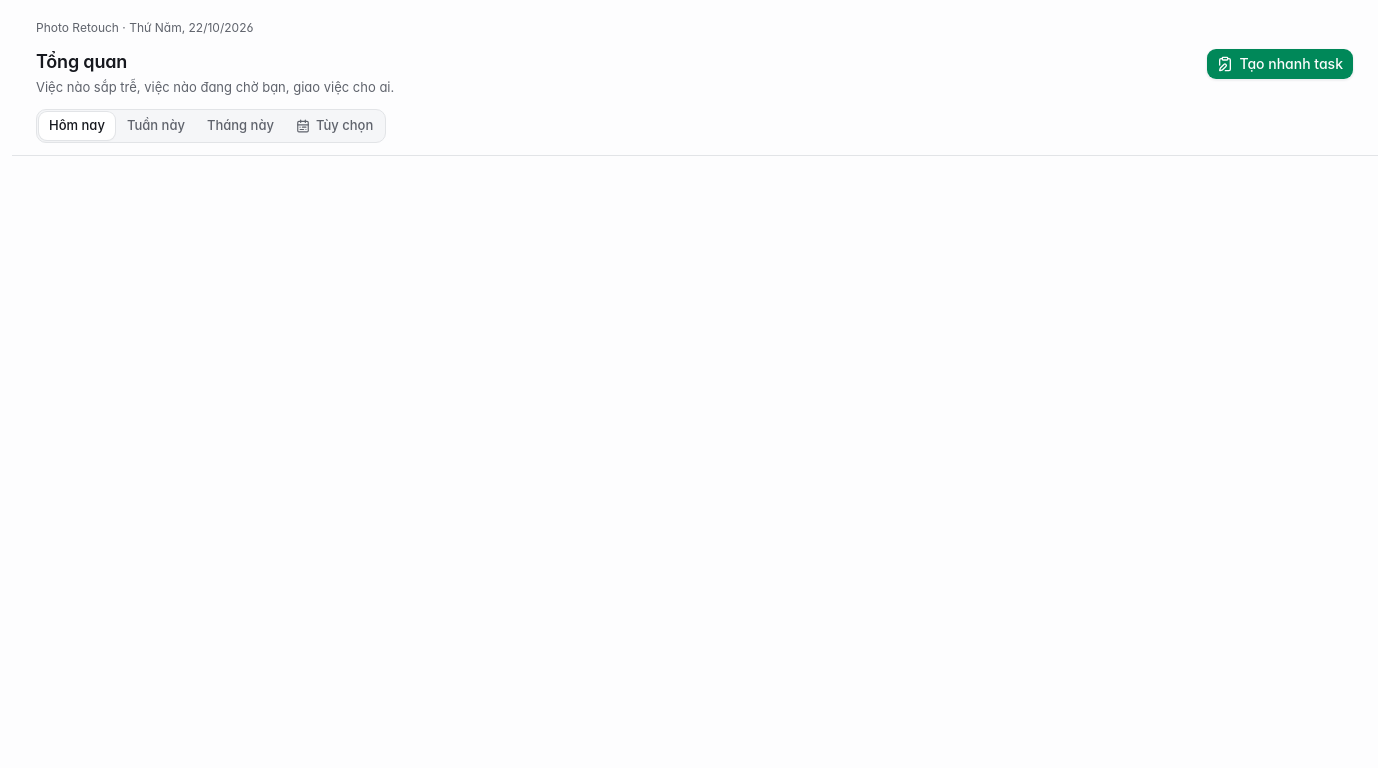
Test case: /production — Tổng quan V2 (PD-080) › the time control goes to the URL and the API (Tuần này Mon–Sun)
expect the heading "Tổng quan" is shown: met, box [36, 51, 127, 72]
Click the button "Tuần này": (156, 126) [117, 112, 195, 140]
(page scrolled)
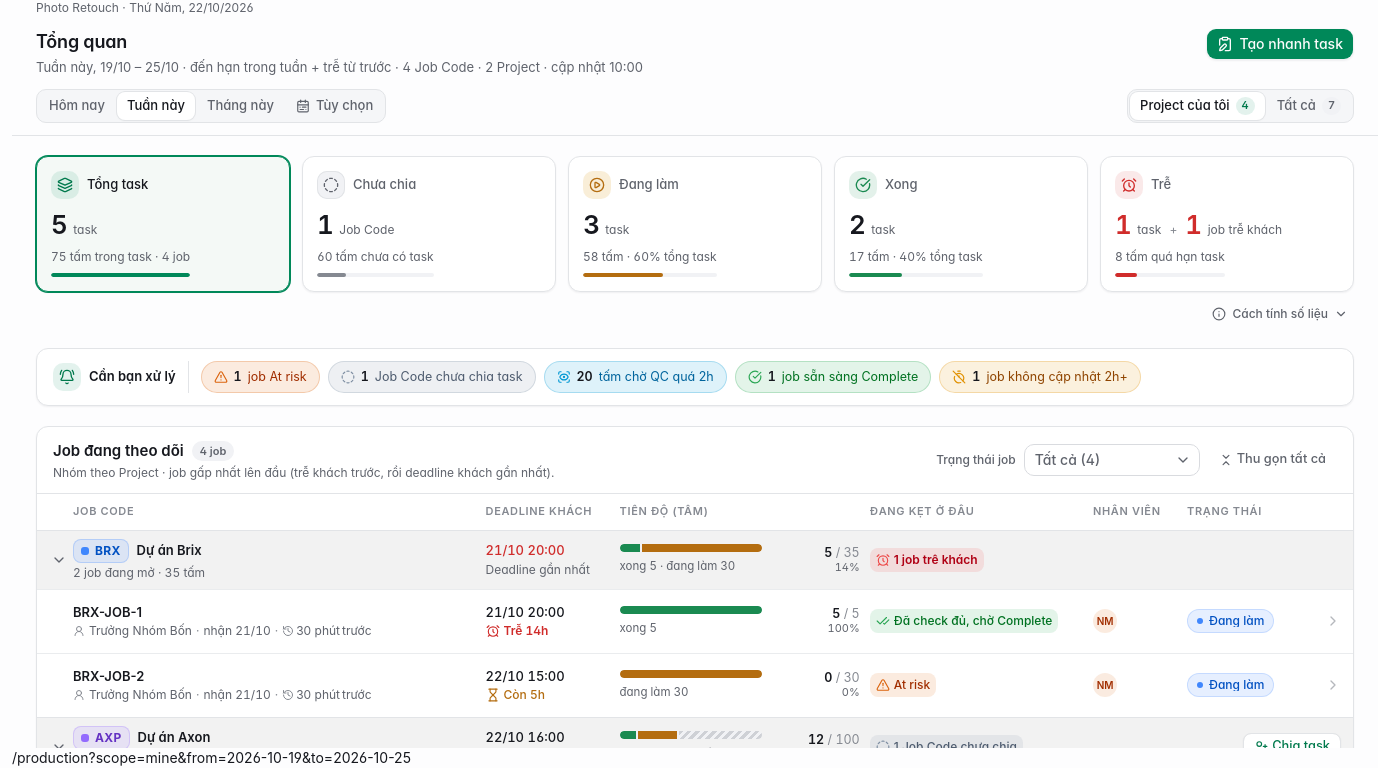
expect the text with test id "location" reads "/production?scope=mine&from=2026-10-19&to=2026-10-25": met, box [12, 749, 411, 766]
